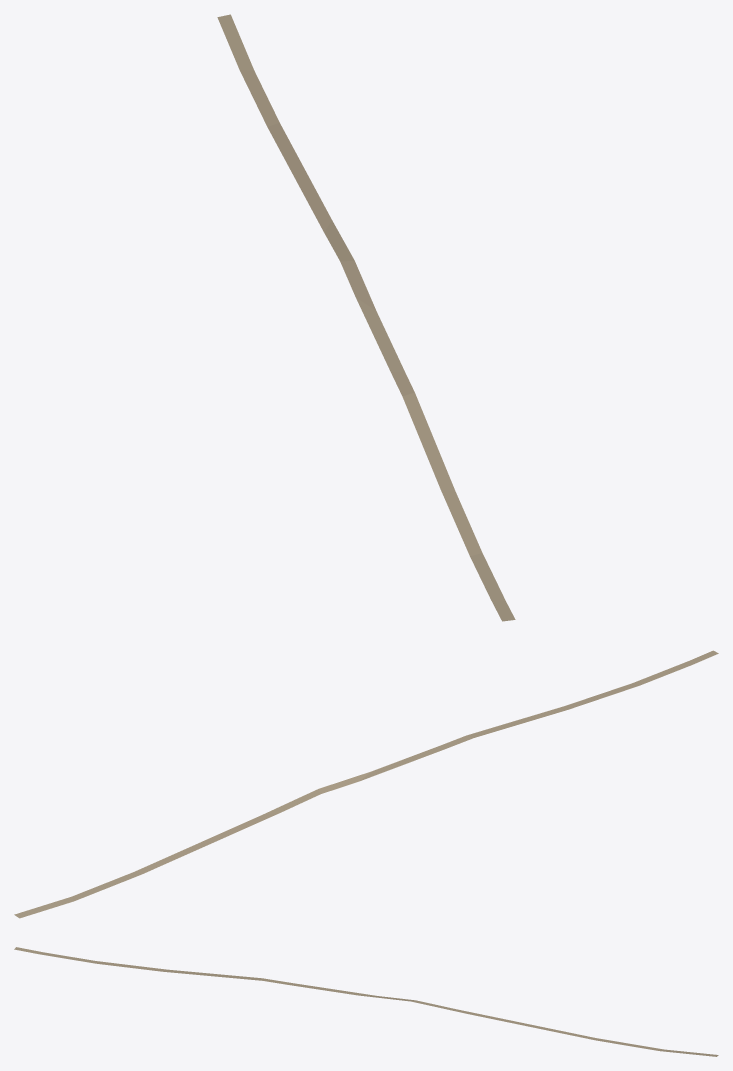
Rendered from farm_-31_-30_track.glb.
The picture shows the model from 3 angles, top to bottom: view 1: azimuth 30°, elevation 25°; view 2: azimuth 150°, elevation 25°; view 3: azimuth 270°, elevation 25°; orthographic projection. The views are drawn at different scales.
Parts seen in each view (by area): view 1: geometry_0; view 2: geometry_0; view 3: geometry_0.
Part boxes in pixels (bbox=[...]): geometry_0: bbox=[217, 14, 515, 621]; geometry_0: bbox=[14, 650, 718, 918]; geometry_0: bbox=[14, 947, 718, 1056].
Bounding box in the file's own units: 119 × 7.55 × 338.
